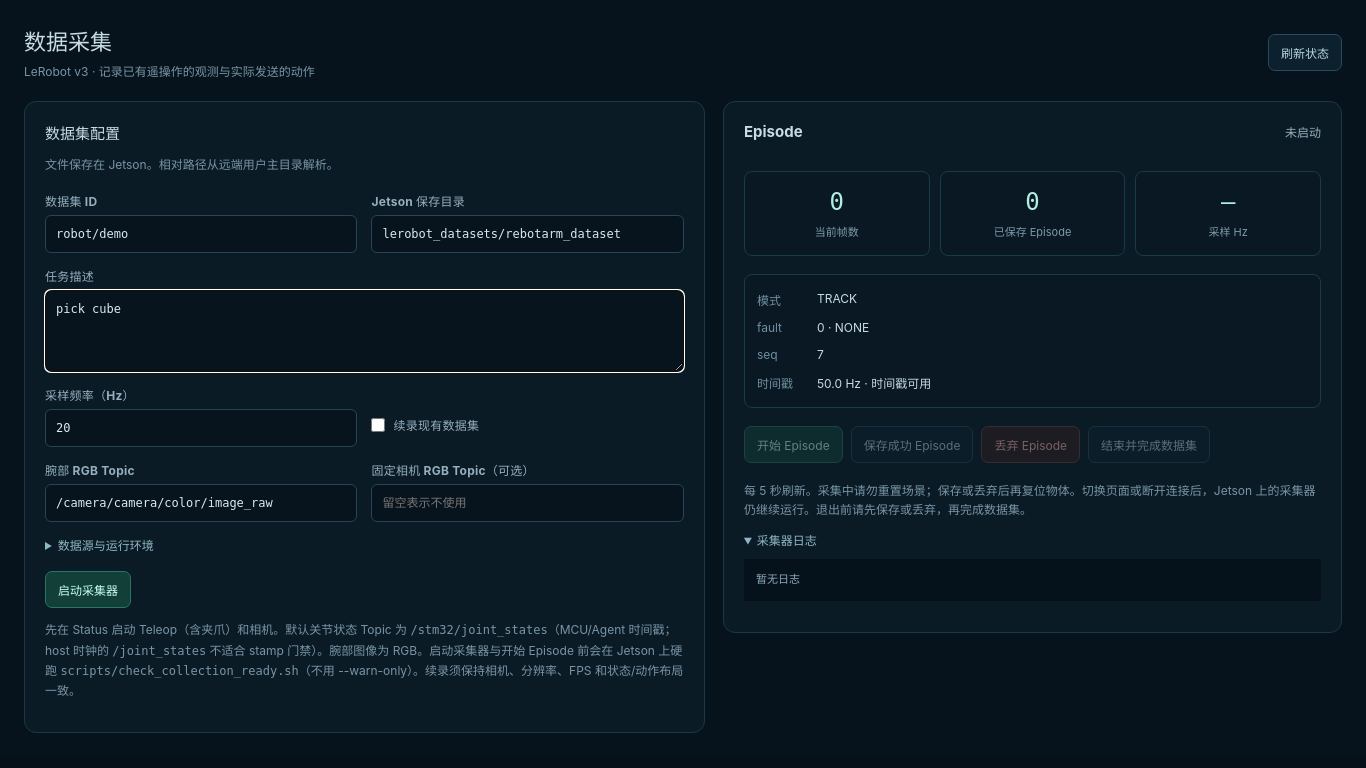
it: DataCollectionPage › preserves typing and focus through pending, successful and failed periodic polls
The image size is (1366, 768).
Replace the text in the text box labelled "任务描述" with "pick cube first": (364, 331) [45,290,684,372]
Wait 5000 ms
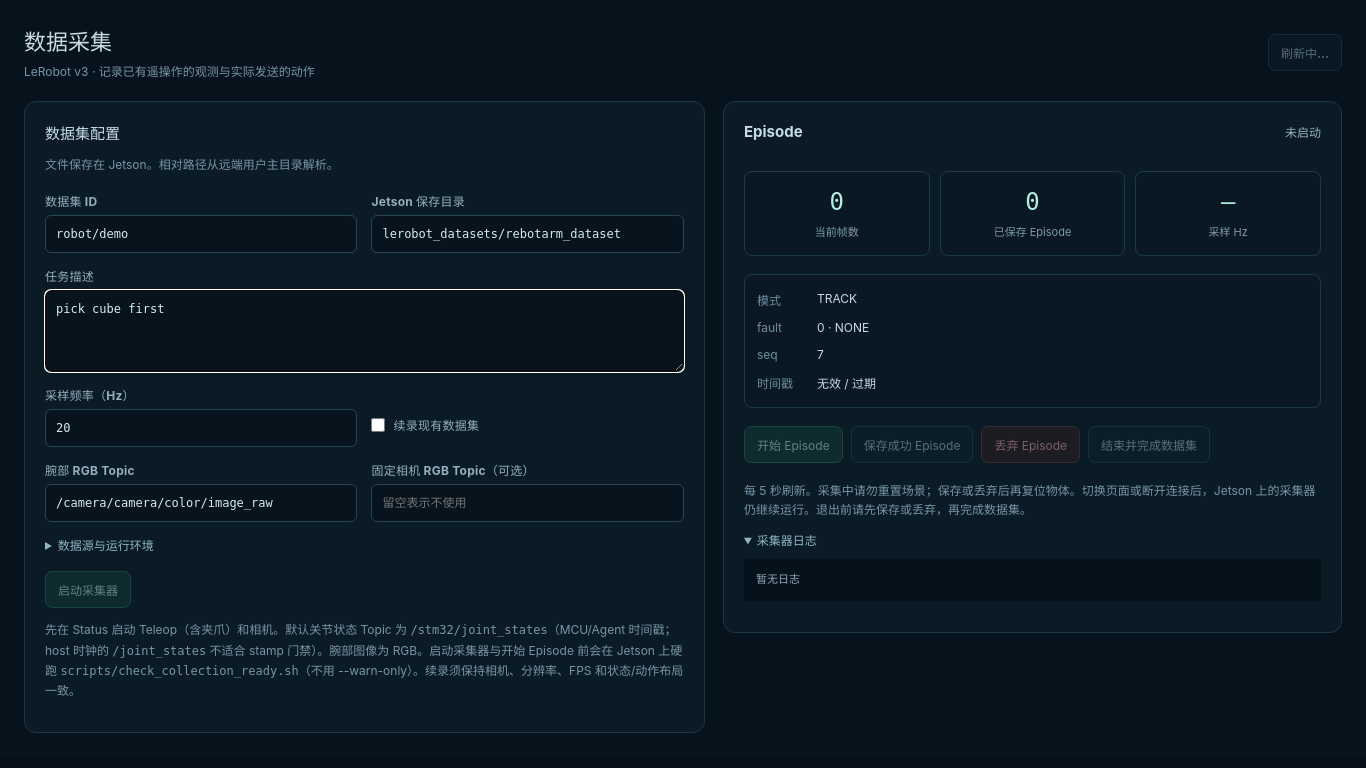
Replace the text in the text box labelled "任务描述" with "pick cube first second": (364, 331) [45,290,684,372]
Wait 5000 ms
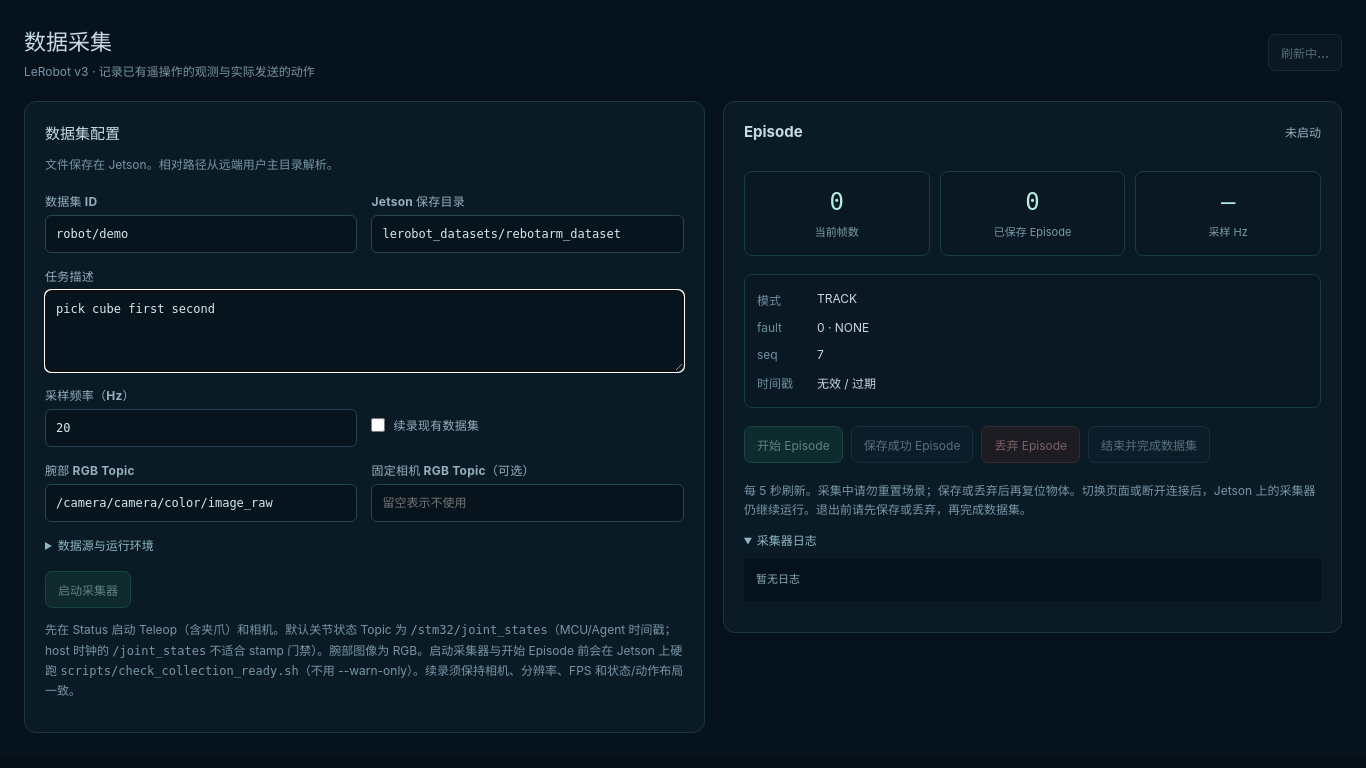
Replace the text in the text box labelled "任务描述" with "pick cube first second third": (364, 331) [45,290,684,372]
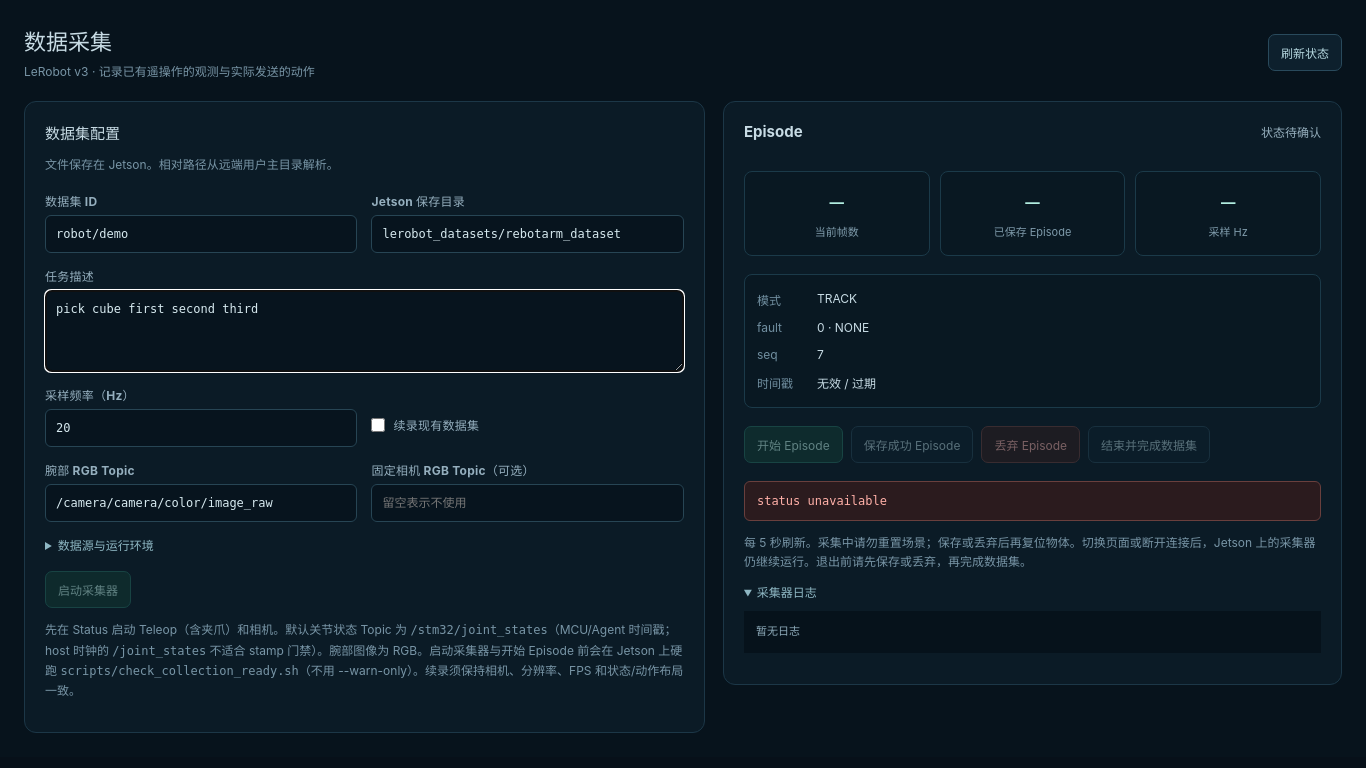
Result: the message reads "status unavailable" at [757,494,887,508]
